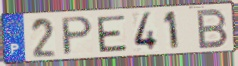1: (162, 10, 181, 52)
2: (30, 16, 59, 59)
4: (132, 11, 159, 54)
B: (196, 7, 230, 51)
E: (95, 14, 129, 54)
P: (61, 15, 95, 58)
